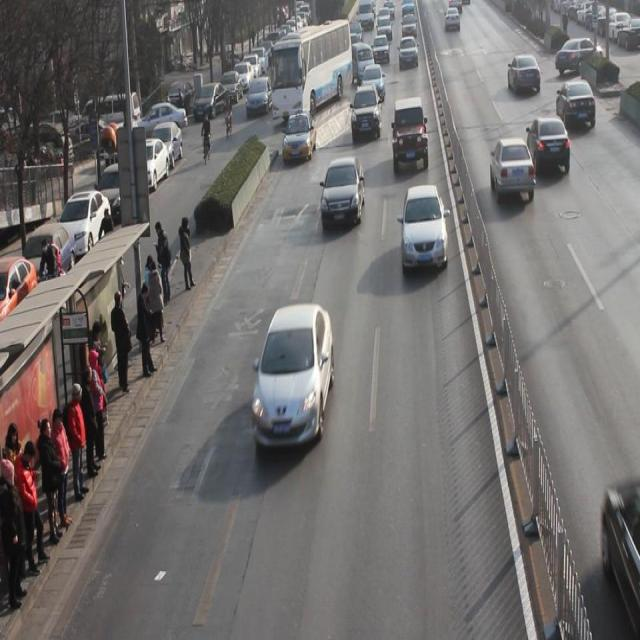car: (252, 302, 336, 454), (402, 184, 448, 271), (321, 155, 365, 231), (490, 138, 536, 201), (392, 97, 430, 173), (527, 116, 571, 177), (349, 85, 382, 143), (556, 81, 596, 128), (282, 110, 316, 164), (556, 39, 604, 75), (508, 54, 541, 100), (361, 65, 386, 103), (400, 35, 419, 70), (371, 35, 390, 66)
truck: (350, 41, 375, 87)
van: (270, 22, 352, 123)
